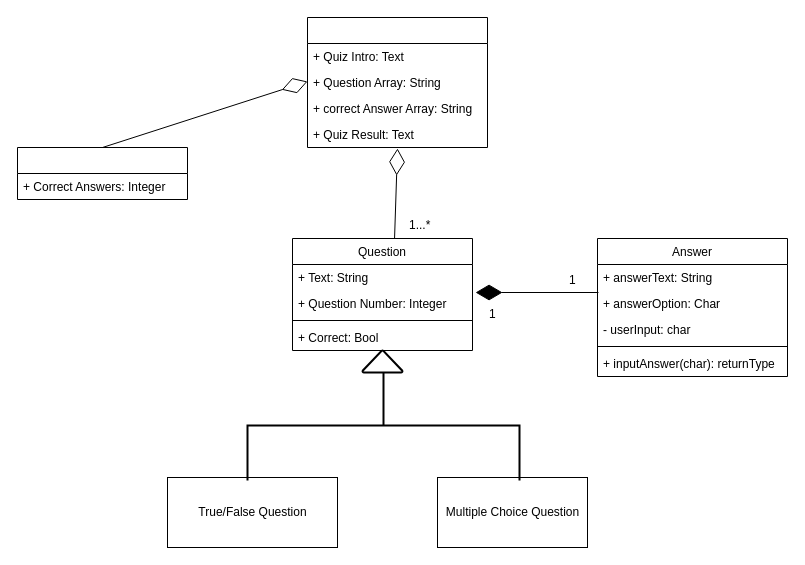
The diagram is 805 pixels wide and 565 high, and some of its shapes have lost their labels. Here are the shapes that lost their labels. From the top down, the box of each, then its label:
(306, 16, 488, 148): PaintballQuiz
(16, 146, 188, 200): Quiz Result
